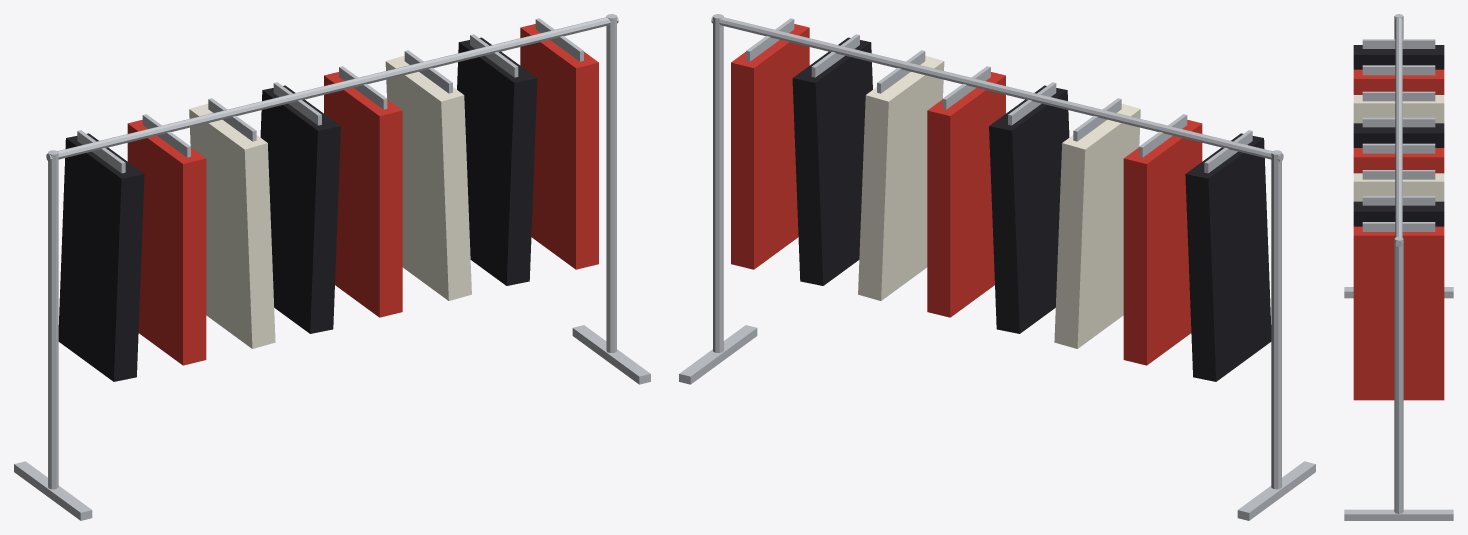
Rendered from rack_pirates.glb.
3 views of the same model, side by side, from view 1: azimuth 30°, elevation 25°; view 2: azimuth 150°, elevation 25°; view 3: azimuth 270°, elevation 25° (orthographic). The views are drawn at different scales.
Parts seen in each view (by area): view 1: costume, post_rack_chrome, bar_rack_chrome, hanger_rack_chrome, foot_rack_chrome; view 2: costume, post_rack_chrome, bar_rack_chrome, hanger_rack_chrome, foot_rack_chrome; view 3: costume, hanger_rack_chrome, post_rack_chrome, bar_rack_chrome, foot_rack_chrome.
Part boxes in pixels (x1,y1,x2,y2): costume: (58,24,598,381); post_rack_chrome: (48,14,616,489); bar_rack_chrome: (46,15,618,161); hanger_rack_chrome: (77,18,583,173); foot_rack_chrome: (14,325,650,520); costume: (731,24,1271,381); post_rack_chrome: (713,14,1281,489); bar_rack_chrome: (711,15,1283,161); hanger_rack_chrome: (746,18,1252,173); foot_rack_chrome: (679,325,1315,520); costume: (1353,45,1444,400); hanger_rack_chrome: (1362,39,1435,231); post_rack_chrome: (1394,14,1403,513); bar_rack_chrome: (1395,18,1402,246); foot_rack_chrome: (1344,287,1453,520).
Size of the model in its own units: 2.96 by 1.7 by 0.6.
